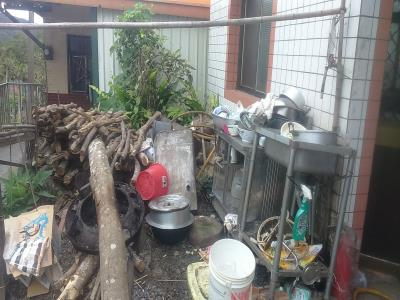bottle: (292, 182, 313, 241)
bowl: (140, 193, 196, 248), (287, 128, 339, 147), (209, 110, 243, 131), (280, 84, 306, 111)
bucket: (205, 236, 258, 300), (134, 162, 170, 201)
